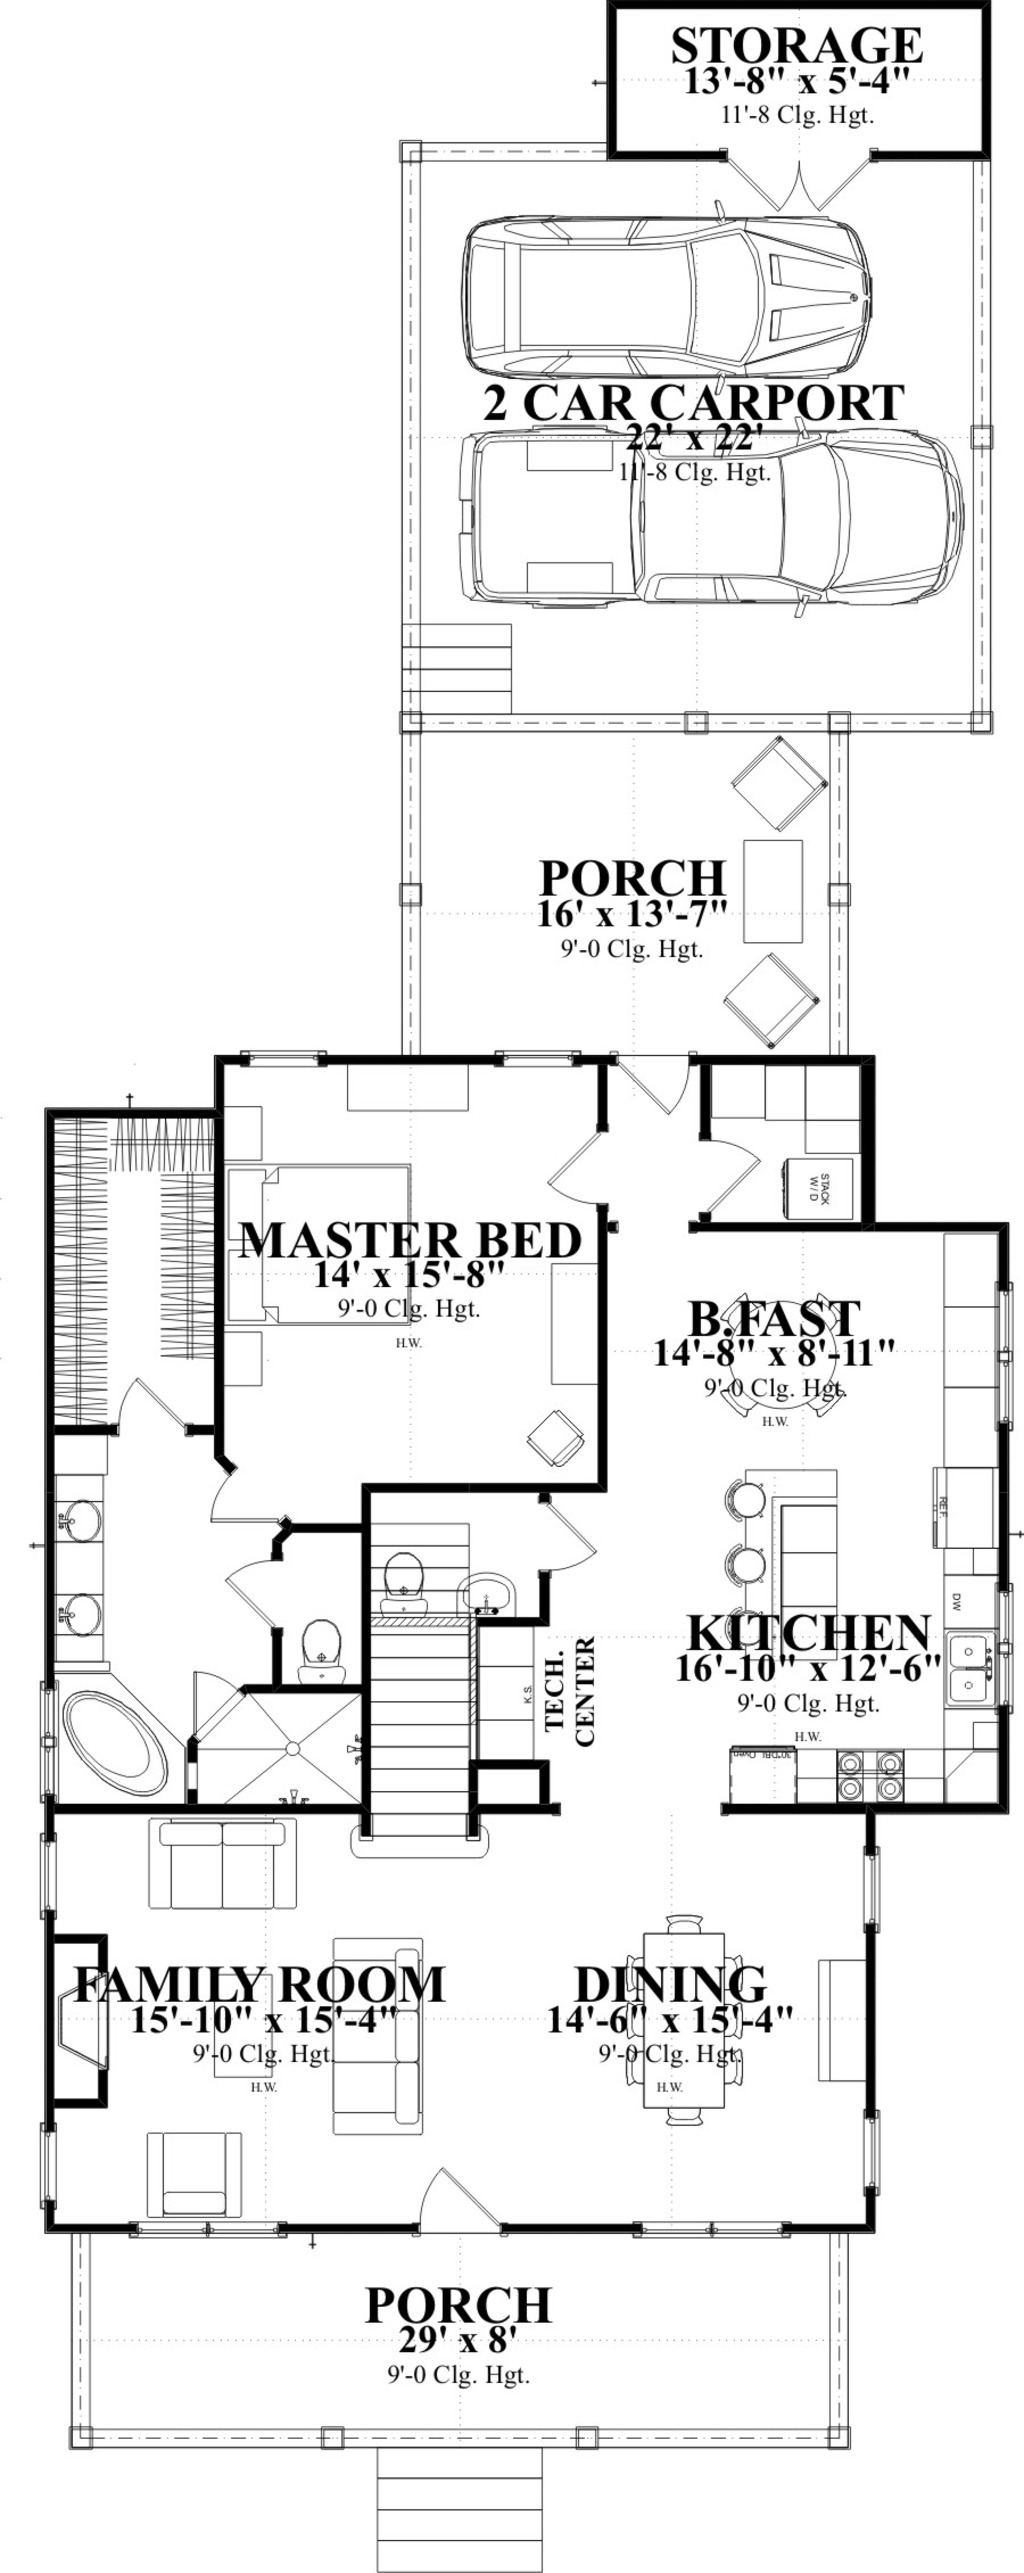dining_table: (591, 1900, 775, 2132)
door: (98, 1347, 210, 1456), (394, 2148, 505, 2245), (725, 144, 866, 217), (519, 1488, 614, 1588), (619, 1040, 706, 1132), (530, 1132, 625, 1208), (202, 1456, 290, 1536), (230, 1547, 294, 1636), (694, 1136, 758, 1213)
kitchen_bar: (689, 1405, 853, 1675)
small_sink: (54, 1444, 121, 1661)
small_sofa: (722, 715, 847, 832), (730, 952, 834, 1052)
stairs: (341, 1539, 478, 1895)
tub: (66, 1664, 166, 1808)
twin_sink: (930, 1592, 1014, 1716)
window: (630, 2192, 794, 2260), (113, 2215, 310, 2240), (850, 1828, 886, 1959), (870, 2104, 903, 2201), (34, 2117, 62, 2223)
